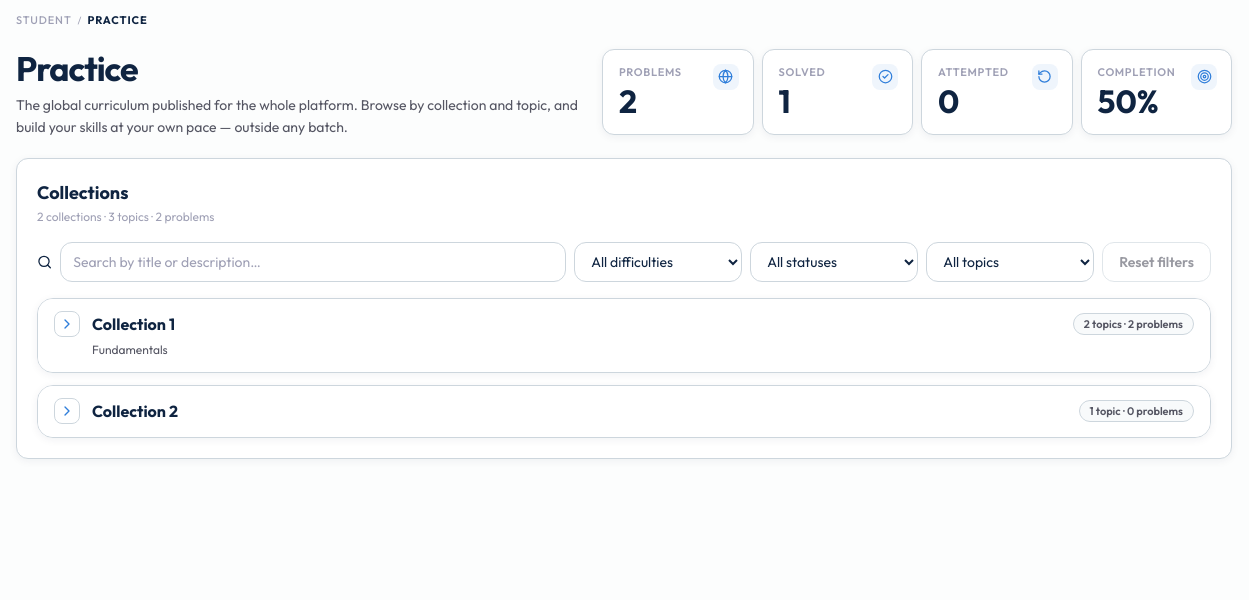
a collection expands and collapses independently
This screenshot has width=1249, height=600.
Check: the text "Collection 1" is shown, box [92,314,175,334]
Click the button "Collection 1 2 topics · 2 problems".
click(134, 324)  # box [54,311,1194,337]
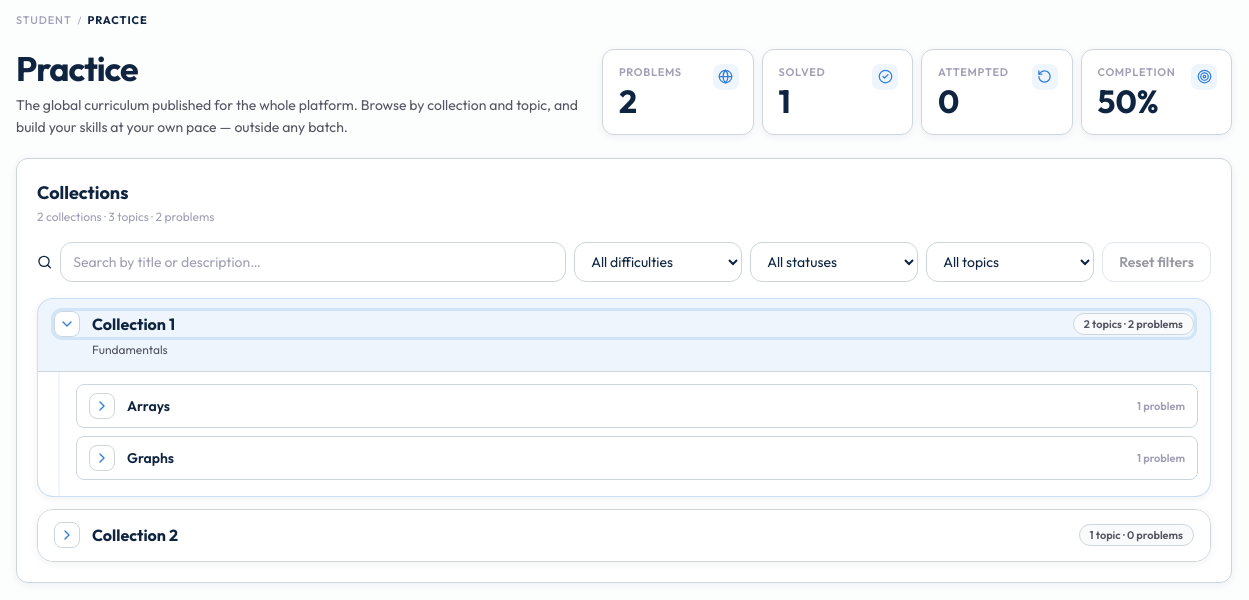
Check: the button "Collection 1 2 topics · 2 problems" is expanded
Check: the button "Arrays 1 problem" is shown, box [89,393,1185,419]
Click the button "Collection 1 2 topics · 2 problems".
click(134, 324)  # box [54,311,1194,337]
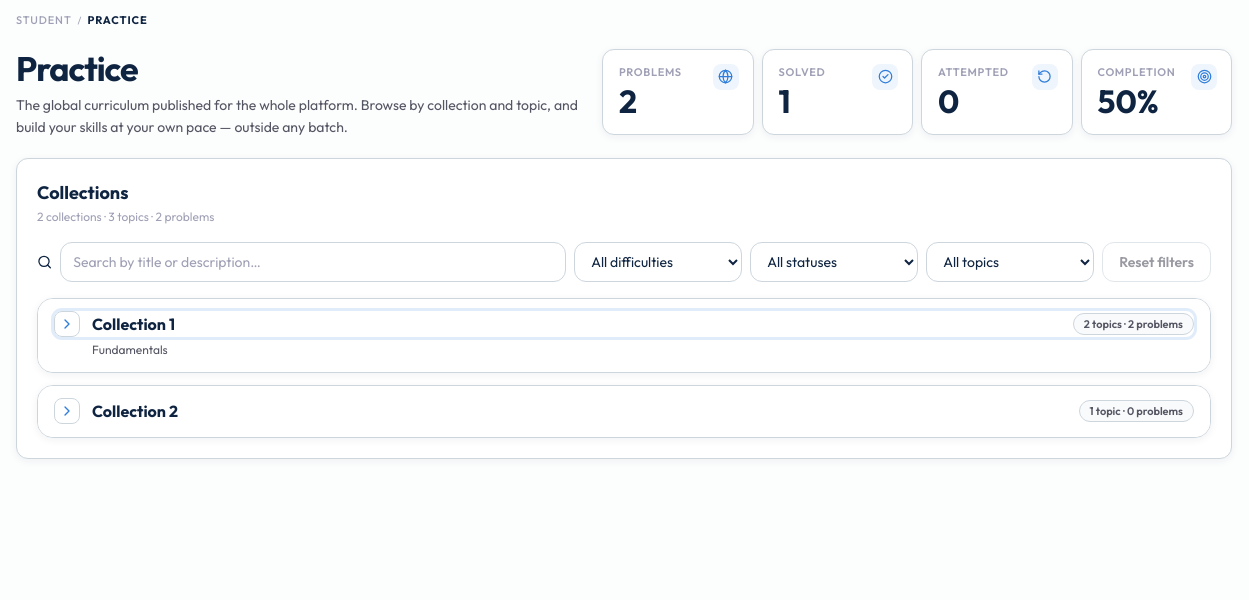
Check: the button "Collection 1 2 topics · 2 problems" is collapsed, box [54,311,1194,337]
Check: the button "Arrays" is gone
